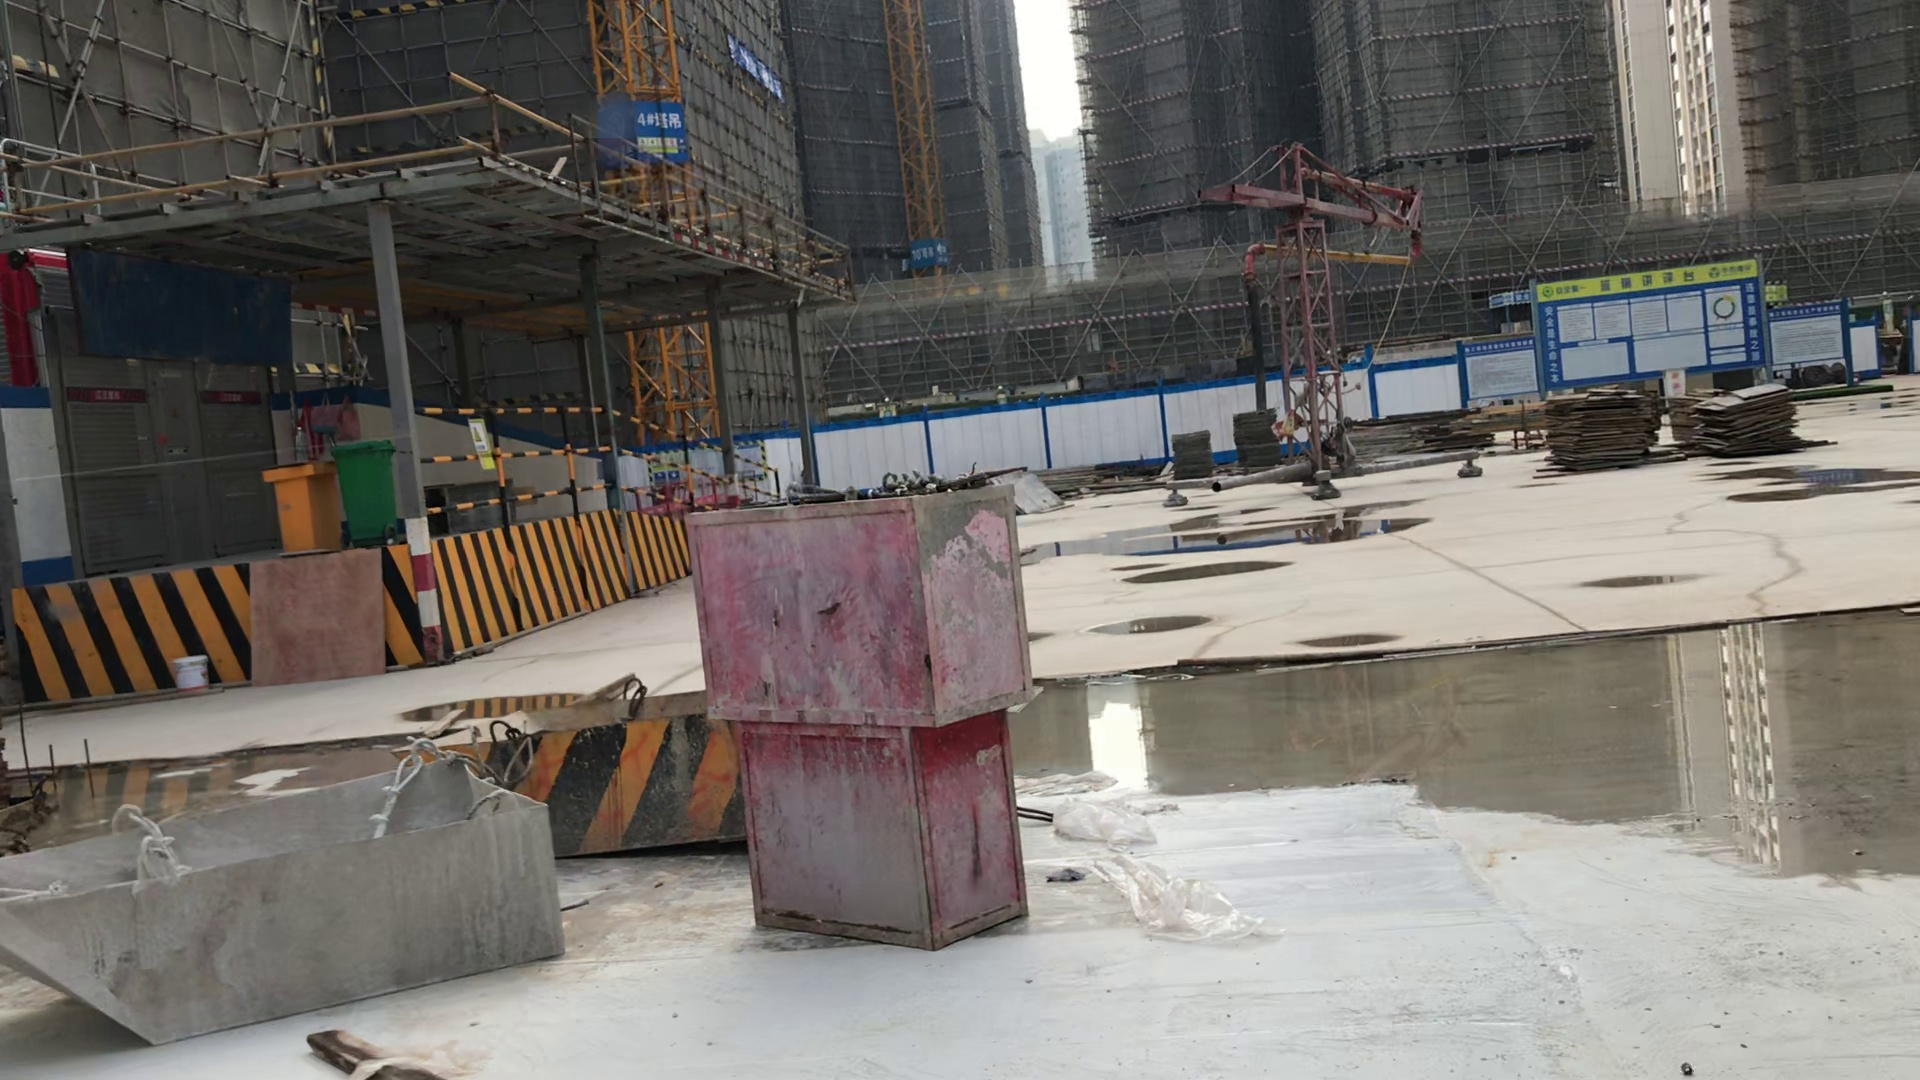board: (1542, 380, 1659, 481), (1696, 378, 1808, 458)
fence: (392, 345, 808, 535)
hopper: (1, 744, 568, 1052), (440, 700, 778, 864)
slogan: (709, 34, 787, 109)
